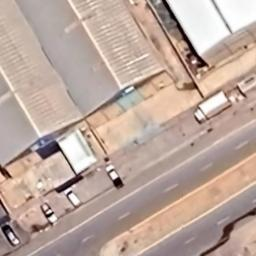SUV: (62, 186, 84, 209)
pickup: (105, 162, 126, 192), (38, 201, 58, 225), (0, 223, 20, 247)
truck: (192, 89, 234, 126)
